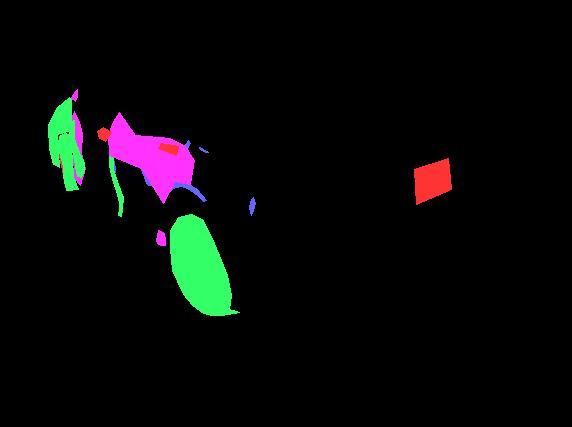Broken part: (170, 214, 239, 315), (48, 97, 71, 167), (58, 133, 78, 190), (69, 120, 84, 177), (109, 156, 123, 216)
Dent: (108, 112, 194, 203), (70, 111, 85, 185), (156, 230, 165, 245), (71, 89, 77, 101)
Missing part: (414, 158, 451, 204), (59, 144, 71, 182), (158, 143, 178, 155), (97, 127, 111, 141)
Scratch: (169, 181, 206, 201), (140, 165, 154, 185), (109, 152, 115, 172), (249, 197, 255, 215), (184, 155, 191, 165), (184, 140, 190, 150), (199, 147, 208, 152)
